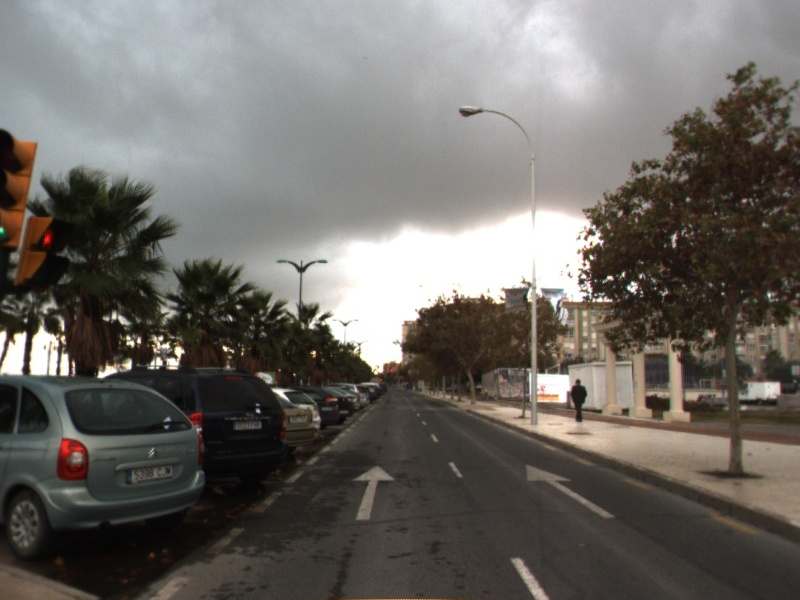STRAIGHT: (525, 463, 617, 519), (350, 464, 398, 521)
